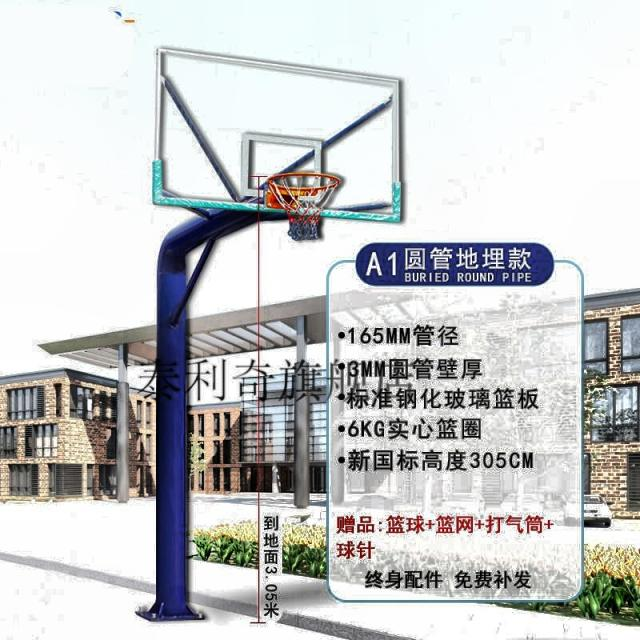rim: (268, 173, 342, 242)
